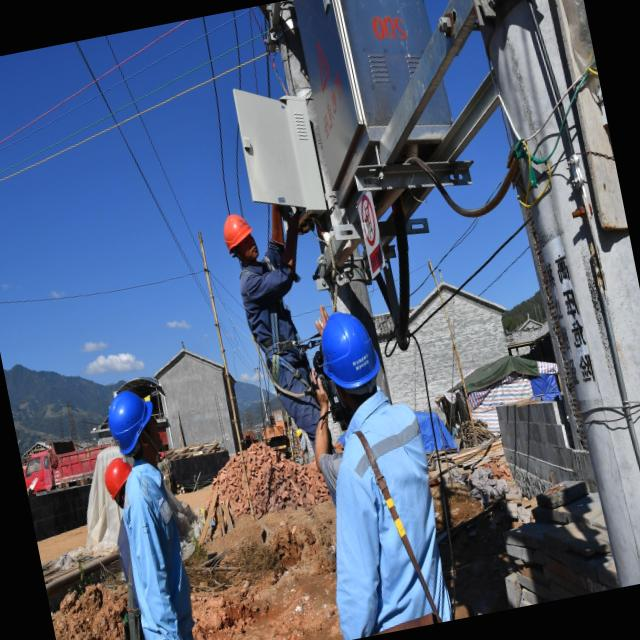helmet: (306, 300, 396, 408), (101, 383, 165, 460), (216, 202, 260, 258)
no-vest: (298, 392, 456, 630), (107, 473, 210, 640), (236, 258, 298, 364)
